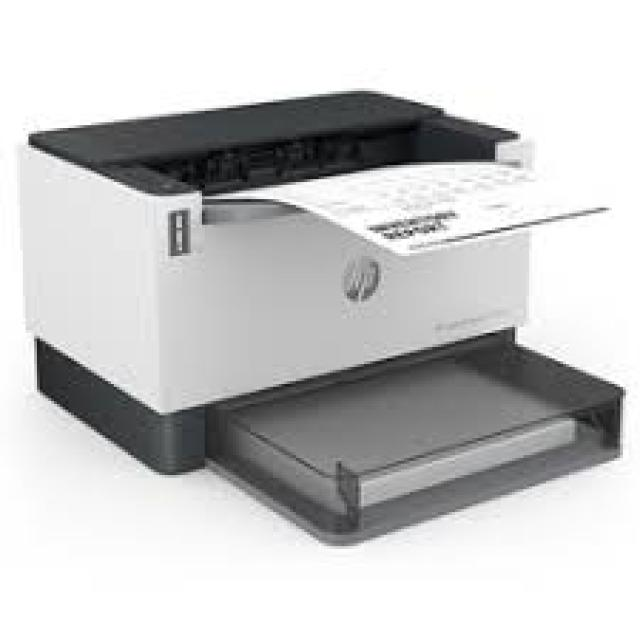printer: (17, 86, 626, 544)
